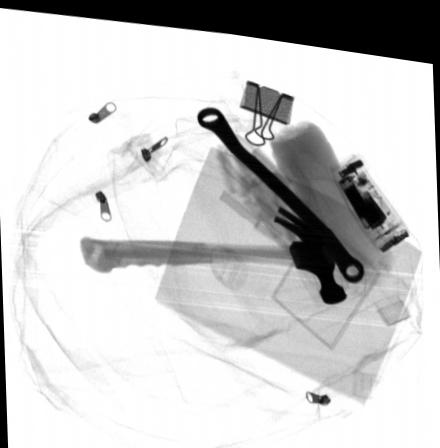Hammer: (78, 197, 345, 295)
Wrench: (198, 99, 364, 271)
